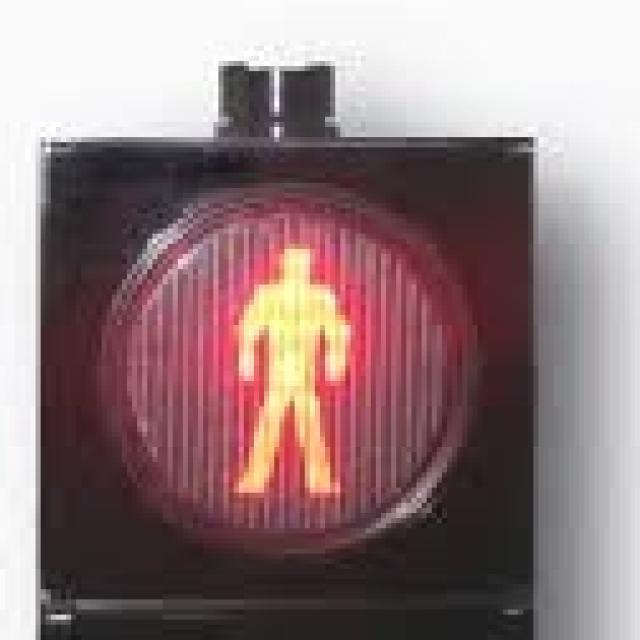red-crossing: (213, 224, 361, 514)
